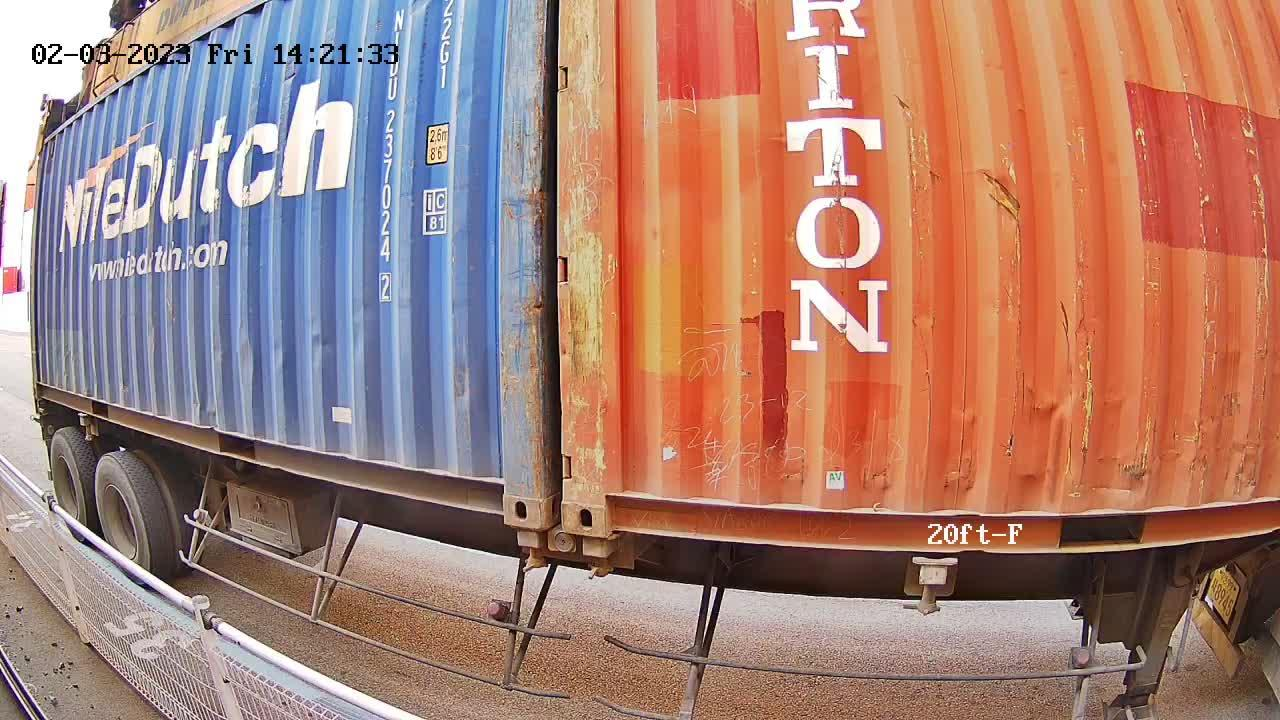Cone: (578, 535, 625, 579), (505, 528, 545, 571)
Hole_L: (562, 465, 657, 540)
Hole_R: (466, 450, 544, 529)
Tire: (95, 454, 156, 584), (50, 427, 92, 545)
